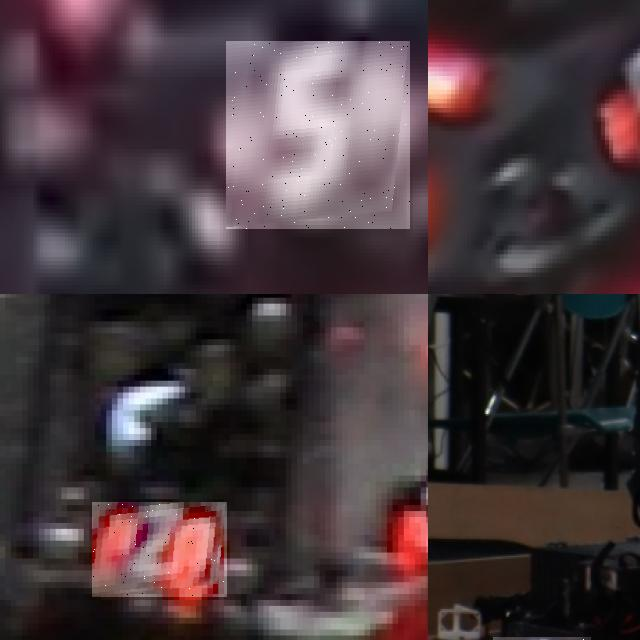R2: (92, 502, 227, 597), (378, 463, 428, 576)
R5: (226, 41, 410, 229), (600, 21, 640, 153)
